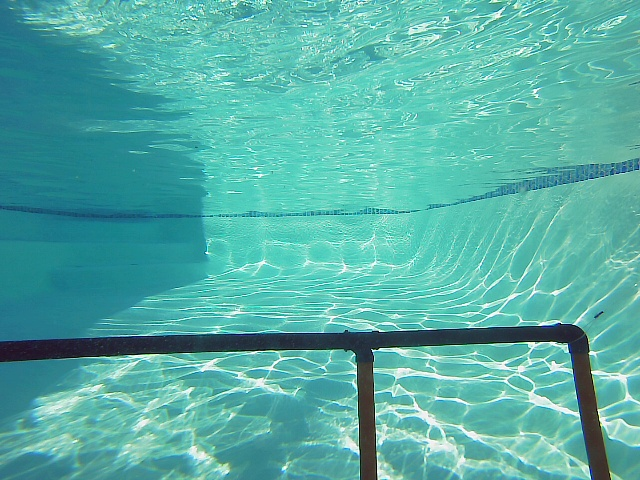Gate: (569, 347, 616, 480), (354, 356, 383, 480)
